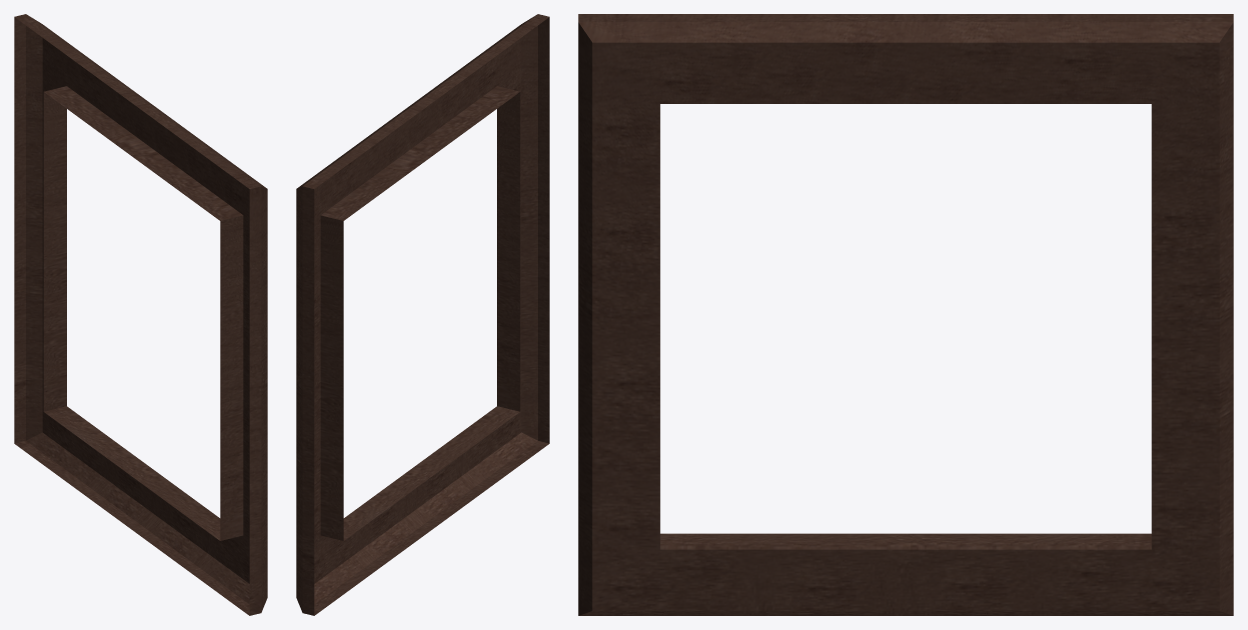
Rendered from PictureFrameComplete.fbx.
3 renders of one model, left to right at view 1: azimuth 30°, elevation 25°; view 2: azimuth 150°, elevation 25°; view 3: azimuth 270°, elevation 25°, orthographic. The views are drawn at different scales.
Visible parts, largest first — view 1: PictureFrame; view 2: PictureFrame; view 3: PictureFrame.
Part boxes in pixels (box(x1,y1,x2,y2)): PictureFrame: box(14, 14, 267, 615); PictureFrame: box(296, 14, 549, 615); PictureFrame: box(578, 14, 1233, 615).
Size of the model in its own units: 2.9 by 50.8 by 50.8.
Materials: 1 (1 with a texture image).
